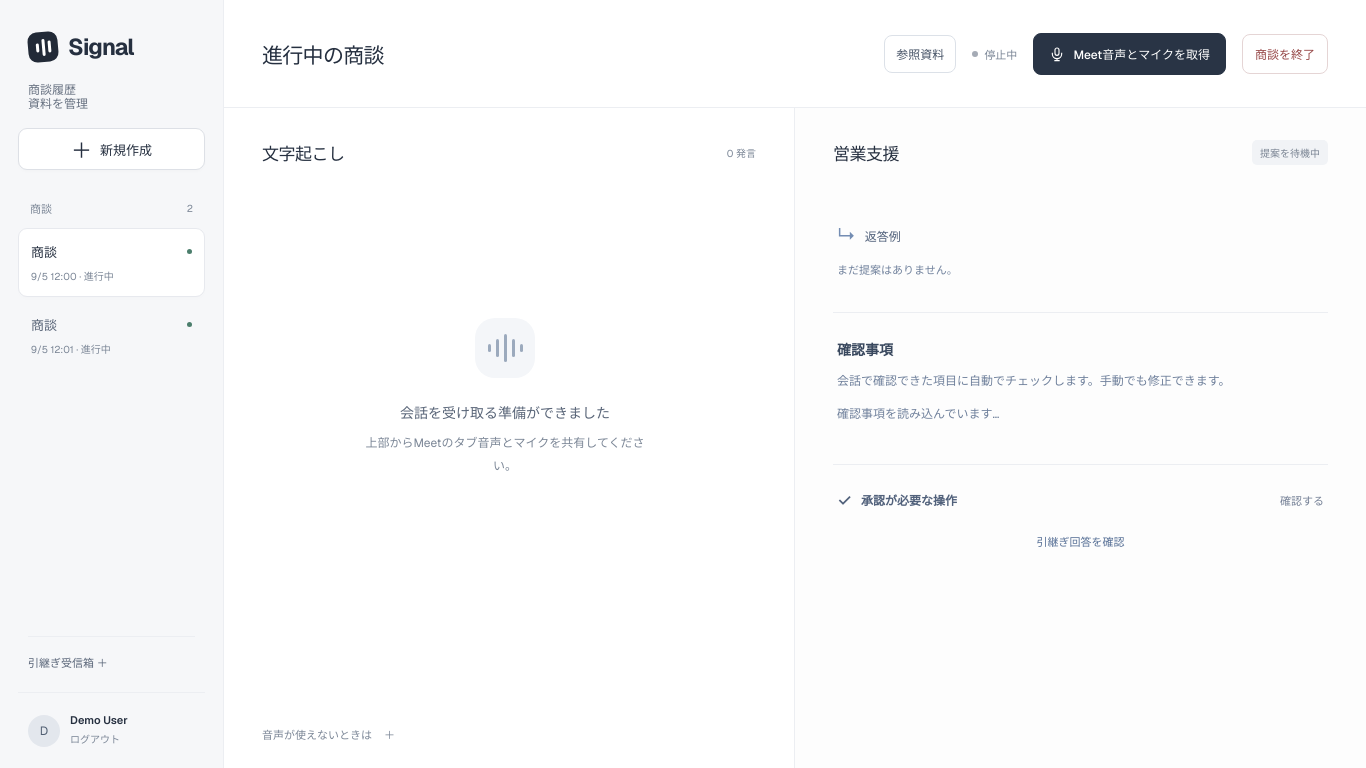
Scenario: authentication page › keeps the workspace visible when selecting a conversation fails
The image size is (1366, 768).
Expected: the heading "進行中の商談" is shown, [262,38,384,68]
Click the button "商談 9/5 12:01 · 進行中".
click(112, 336)  # box [18,301,205,370]
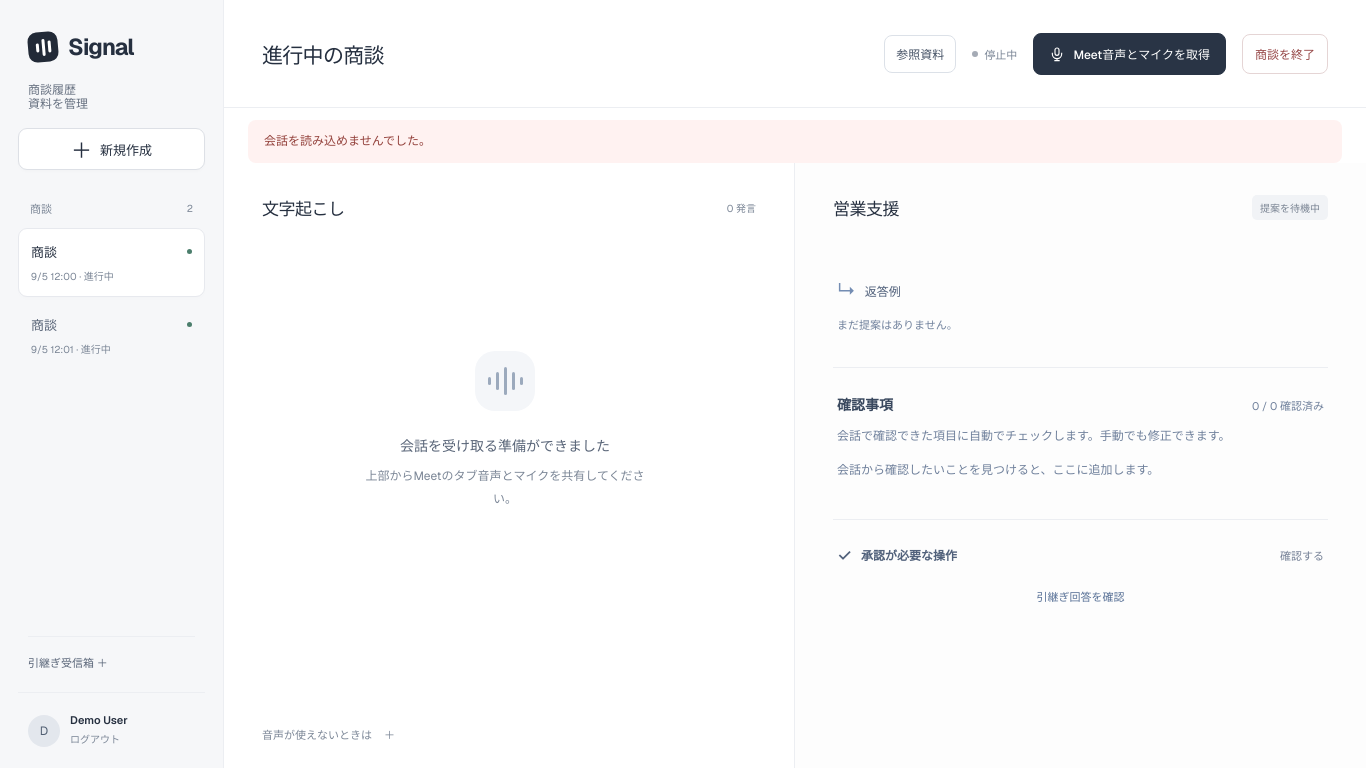
Expected: the heading "営業支援" is shown, [833,195,899,220]
Expected: the text "会話を読み込めませんでした。" is shown, [248,120,1342,163]
